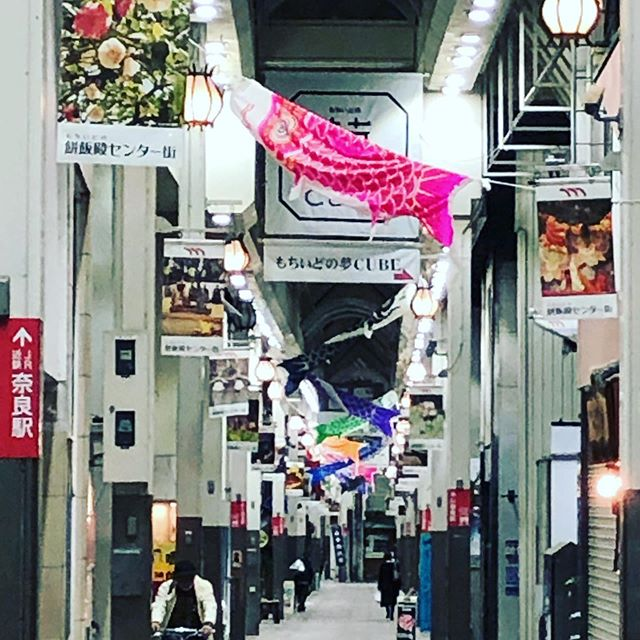building: (1, 1, 271, 640), (402, 1, 640, 633)
